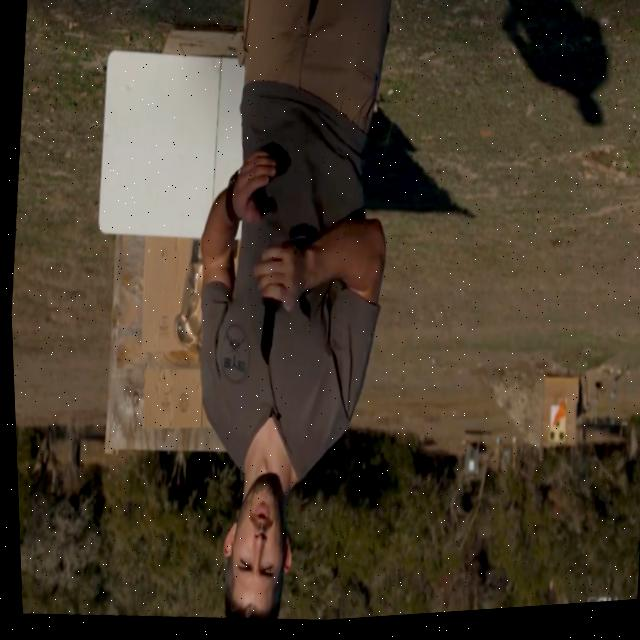knife: (248, 290, 280, 377)
